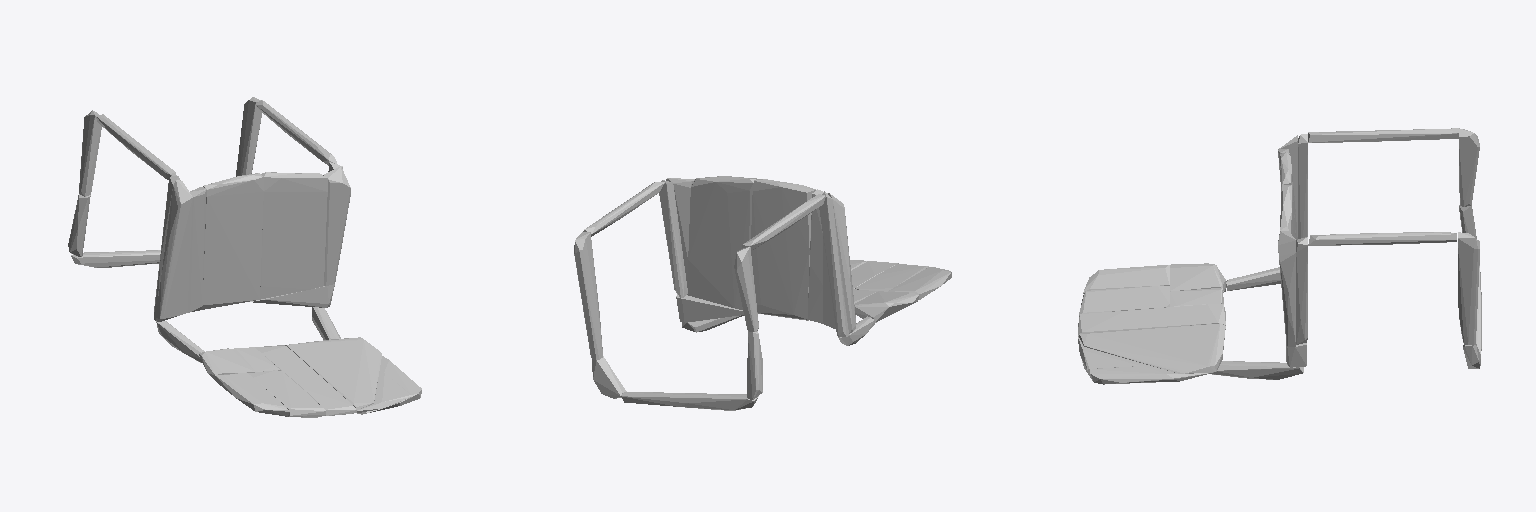
The picture shows the model from 3 angles: view 1: azimuth 30°, elevation 25°; view 2: azimuth 150°, elevation 25°; view 3: azimuth 270°, elevation 25°; orthographic projection.
Parts seen in each view (by area): view 1: convex_17, convex_16, convex_9, convex_13, convex_6, convex_19, convex_4, convex_25, convex_22, convex_14, convex_11, convex_0 (+11 smaller); view 2: convex_17, convex_16, convex_14, convex_13, convex_0, convex_12, convex_18, convex_4, convex_11, convex_24, convex_8, convex_19 (+7 smaller); view 3: convex_9, convex_6, convex_14, convex_25, convex_5, convex_3, convex_22, convex_19, convex_23, convex_24, convex_11, convex_7 (+6 smaller).
Part boxes in pixels (bbox=[...]): convex_17: bbox=[260, 172, 327, 299]; convex_16: bbox=[201, 173, 263, 309]; convex_9: bbox=[285, 337, 381, 409]; convex_13: bbox=[156, 180, 192, 321]; convex_6: bbox=[255, 345, 356, 415]; convex_19: bbox=[323, 166, 350, 285]; convex_4: bbox=[187, 187, 206, 312]; convex_25: bbox=[248, 370, 325, 417]; convex_22: bbox=[215, 372, 289, 416]; convex_14: bbox=[236, 97, 261, 176]; convex_11: bbox=[79, 110, 101, 196]; convex_0: bbox=[71, 250, 160, 267]; convex_17: bbox=[688, 176, 756, 309]; convex_16: bbox=[751, 179, 815, 320]; convex_14: bbox=[574, 232, 602, 359]; convex_13: bbox=[823, 193, 855, 333]; convex_0: bbox=[621, 392, 758, 410]; convex_12: bbox=[819, 191, 848, 336]; convex_18: bbox=[659, 180, 687, 297]; convex_4: bbox=[807, 189, 827, 323]; convex_11: bbox=[734, 246, 758, 331]; convex_24: bbox=[854, 291, 918, 322]; convex_8: bbox=[676, 294, 743, 322]; convex_19: bbox=[666, 178, 694, 294]; convex_9: bbox=[1079, 323, 1225, 373]; convex_6: bbox=[1078, 304, 1225, 336]; convex_14: bbox=[1458, 232, 1479, 345]; convex_25: bbox=[1079, 286, 1169, 315]; convex_5: bbox=[1308, 232, 1456, 245]; convex_3: bbox=[1308, 128, 1458, 142]; convex_22: bbox=[1083, 265, 1169, 293]; convex_19: bbox=[1278, 231, 1295, 346]; convex_23: bbox=[1083, 364, 1209, 384]; convex_24: bbox=[1170, 263, 1225, 292]; convex_11: bbox=[1459, 128, 1479, 206]; convex_7: bbox=[1210, 361, 1303, 379].
Bounding box in the file's own units: 0.4682 × 0.432 × 0.846.